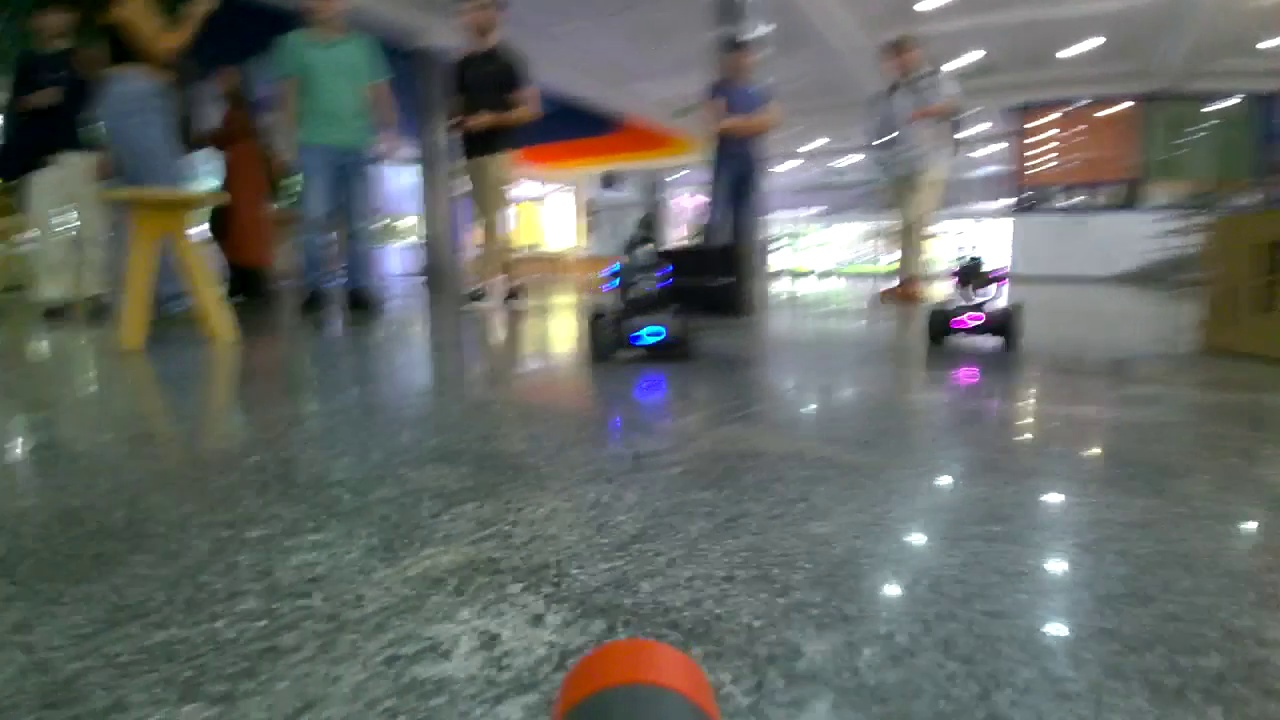robot: (597, 250, 689, 363), (934, 262, 1028, 345)
